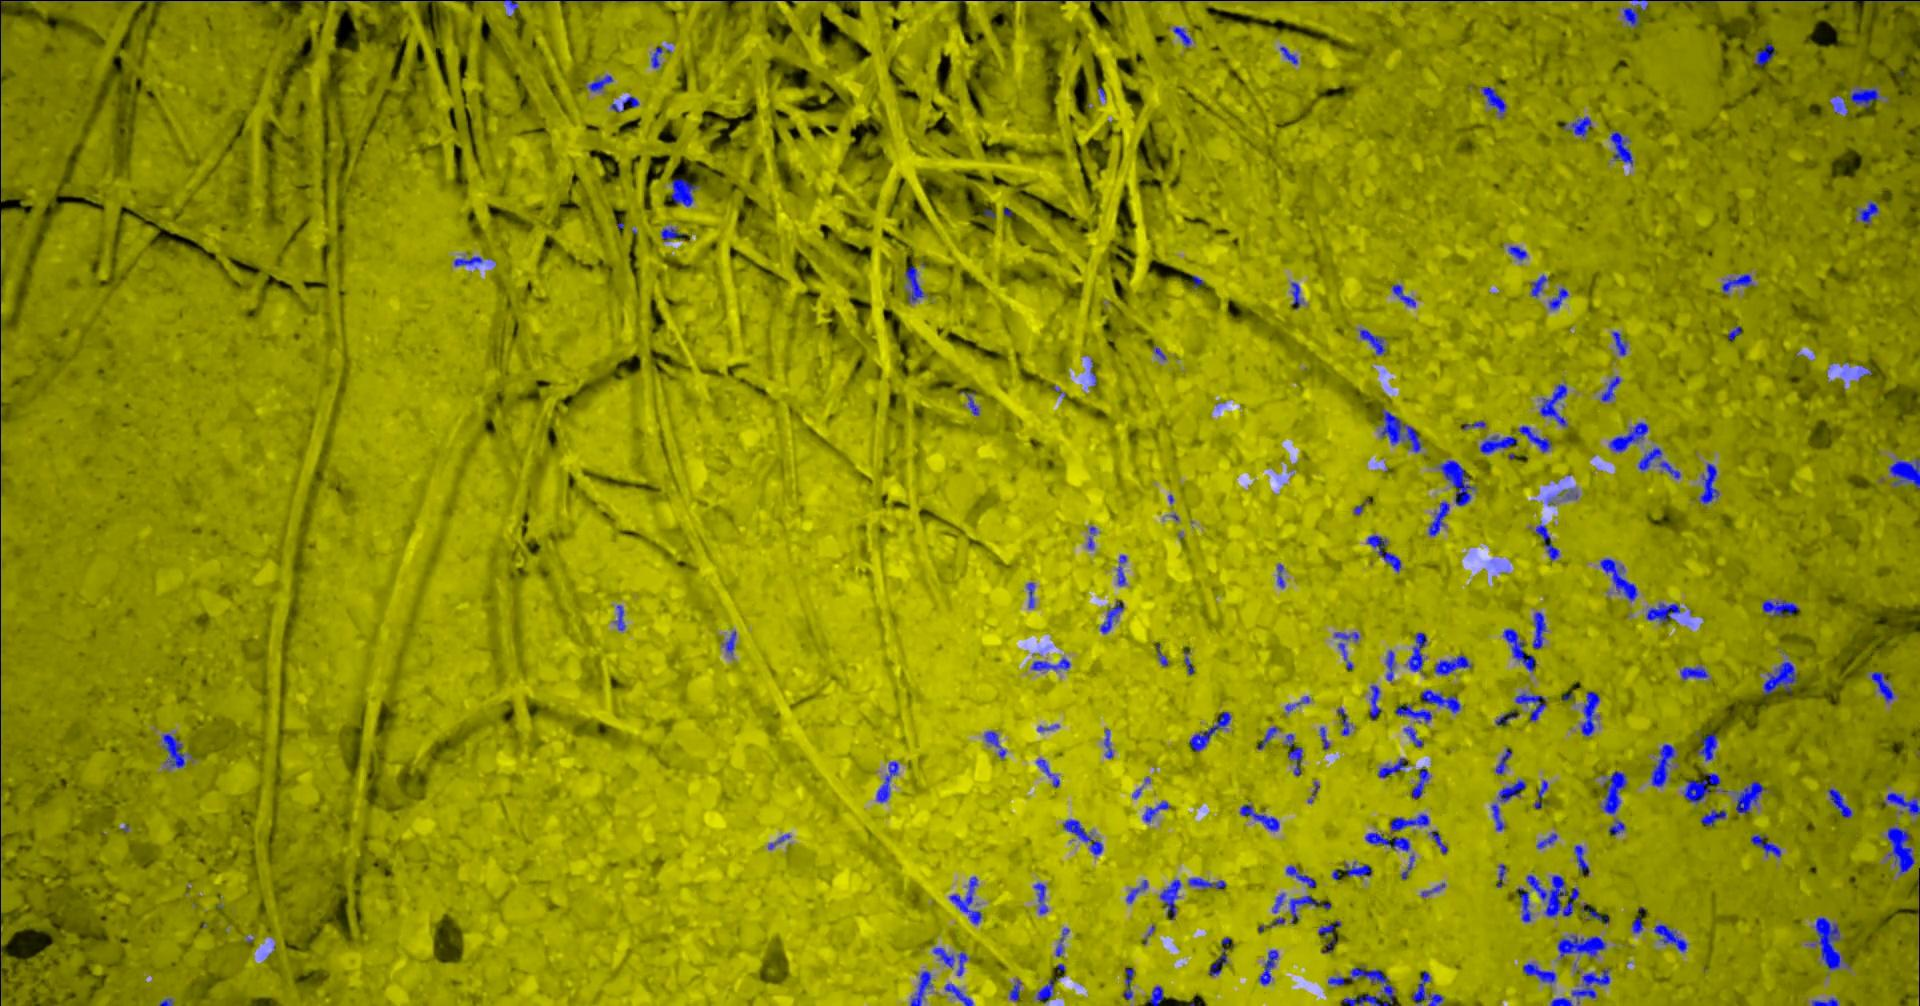ant: (1526, 874, 1578, 916), (1341, 967, 1393, 1005), (1811, 916, 1848, 969), (1380, 408, 1421, 452), (1437, 460, 1476, 506), (1189, 711, 1230, 751), (1599, 558, 1637, 601), (949, 876, 982, 923), (1571, 967, 1609, 1005), (1502, 627, 1534, 671), (1063, 819, 1102, 854), (1886, 826, 1914, 874), (1638, 447, 1680, 478), (1366, 535, 1399, 572), (1599, 770, 1627, 813), (1608, 420, 1647, 451), (1763, 661, 1797, 695), (1539, 384, 1567, 426), (1683, 772, 1719, 804), (1733, 780, 1766, 813), (1411, 970, 1443, 1005), (1650, 743, 1674, 786), (1557, 935, 1605, 956), (1239, 804, 1279, 829), (932, 948, 968, 976), (1208, 937, 1233, 976), (1535, 521, 1559, 560), (1888, 459, 1919, 489), (1514, 692, 1545, 721), (1653, 923, 1686, 951), (1421, 688, 1459, 713), (163, 733, 189, 767), (1517, 426, 1550, 452), (876, 761, 898, 801), (1335, 631, 1357, 669), (1364, 832, 1410, 851), (1289, 895, 1319, 923), (1580, 691, 1599, 735), (1882, 793, 1919, 815), (1159, 879, 1180, 918), (670, 178, 698, 206), (1699, 464, 1718, 504), (1406, 633, 1426, 671), (1610, 130, 1632, 165), (1098, 601, 1123, 633), (1434, 654, 1470, 674), (1035, 976, 1060, 1005), (910, 970, 932, 1005), (1827, 788, 1851, 818), (1359, 328, 1385, 354), (1481, 86, 1506, 114), (1479, 434, 1516, 453), (1429, 500, 1449, 535), (1870, 671, 1893, 701), (1750, 835, 1780, 857), (1285, 733, 1302, 775), (1622, 0, 1648, 25), (1390, 813, 1429, 831), (1258, 949, 1277, 984), (1646, 602, 1679, 622), (1523, 963, 1556, 983), (1849, 86, 1879, 108), (1285, 865, 1316, 887), (905, 265, 923, 302), (1394, 704, 1431, 721), (1763, 600, 1798, 617), (1036, 760, 1059, 786), (1498, 779, 1525, 801), (983, 730, 1004, 758), (943, 983, 971, 1005), (1377, 757, 1406, 777), (1142, 800, 1168, 822), (1581, 902, 1608, 923), (1563, 116, 1591, 136), (1721, 273, 1752, 291), (1390, 283, 1415, 306), (1600, 375, 1620, 401), (1411, 767, 1429, 798), (1531, 611, 1545, 649), (1697, 732, 1716, 760), (1752, 43, 1775, 66), (1855, 201, 1878, 224), (1516, 887, 1531, 921), (1030, 657, 1070, 669), (1126, 879, 1147, 903), (1032, 882, 1048, 913), (650, 46, 670, 69), (1336, 708, 1352, 735), (1429, 829, 1448, 854), (587, 74, 612, 91), (1284, 695, 1309, 713), (1495, 747, 1511, 774), (1548, 287, 1568, 309), (1258, 727, 1277, 749), (1187, 876, 1225, 888), (1575, 843, 1589, 874), (1343, 861, 1371, 876), (1700, 809, 1726, 826), (1403, 727, 1423, 747), (1530, 274, 1548, 297), (1495, 708, 1517, 725), (1317, 920, 1340, 937), (610, 97, 637, 111), (1679, 666, 1707, 680), (1533, 780, 1547, 808), (1055, 929, 1069, 956), (1172, 25, 1190, 47), (1369, 683, 1380, 716), (1491, 803, 1505, 829), (1123, 967, 1134, 998), (1830, 95, 1848, 116), (660, 227, 684, 241), (1290, 282, 1303, 307), (1116, 554, 1126, 586), (1611, 332, 1625, 354), (1279, 46, 1297, 64), (1148, 984, 1163, 1005), (1537, 833, 1556, 848), (966, 391, 978, 415), (1103, 728, 1112, 758), (1608, 819, 1625, 835), (1507, 245, 1526, 259), (453, 257, 483, 265), (1385, 650, 1394, 680), (615, 605, 625, 630), (725, 630, 735, 655), (1183, 650, 1194, 674), (1156, 645, 1167, 666), (1319, 727, 1330, 749), (1496, 864, 1506, 887), (1272, 893, 1284, 912), (1727, 325, 1741, 340), (1010, 979, 1020, 1000), (1811, 997, 1837, 1005), (1026, 582, 1034, 607), (1630, 917, 1642, 934), (1276, 563, 1284, 587), (1087, 526, 1095, 549), (1550, 997, 1572, 1005), (1327, 976, 1345, 984)
